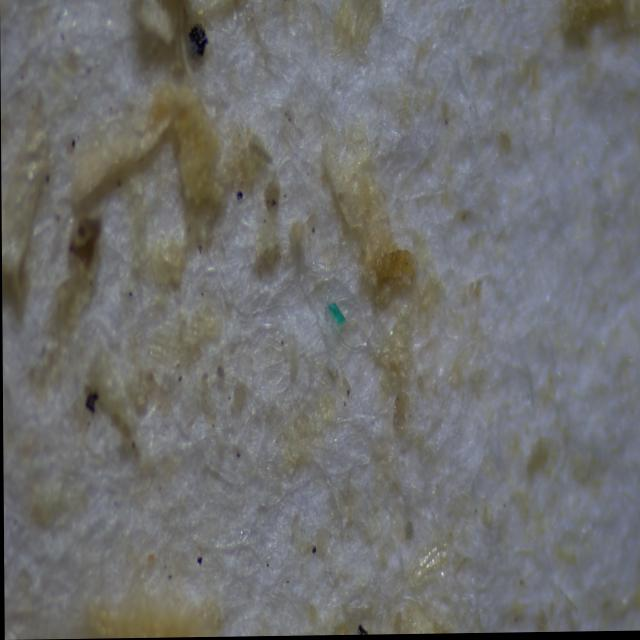microplastic: (324, 301, 348, 327)
